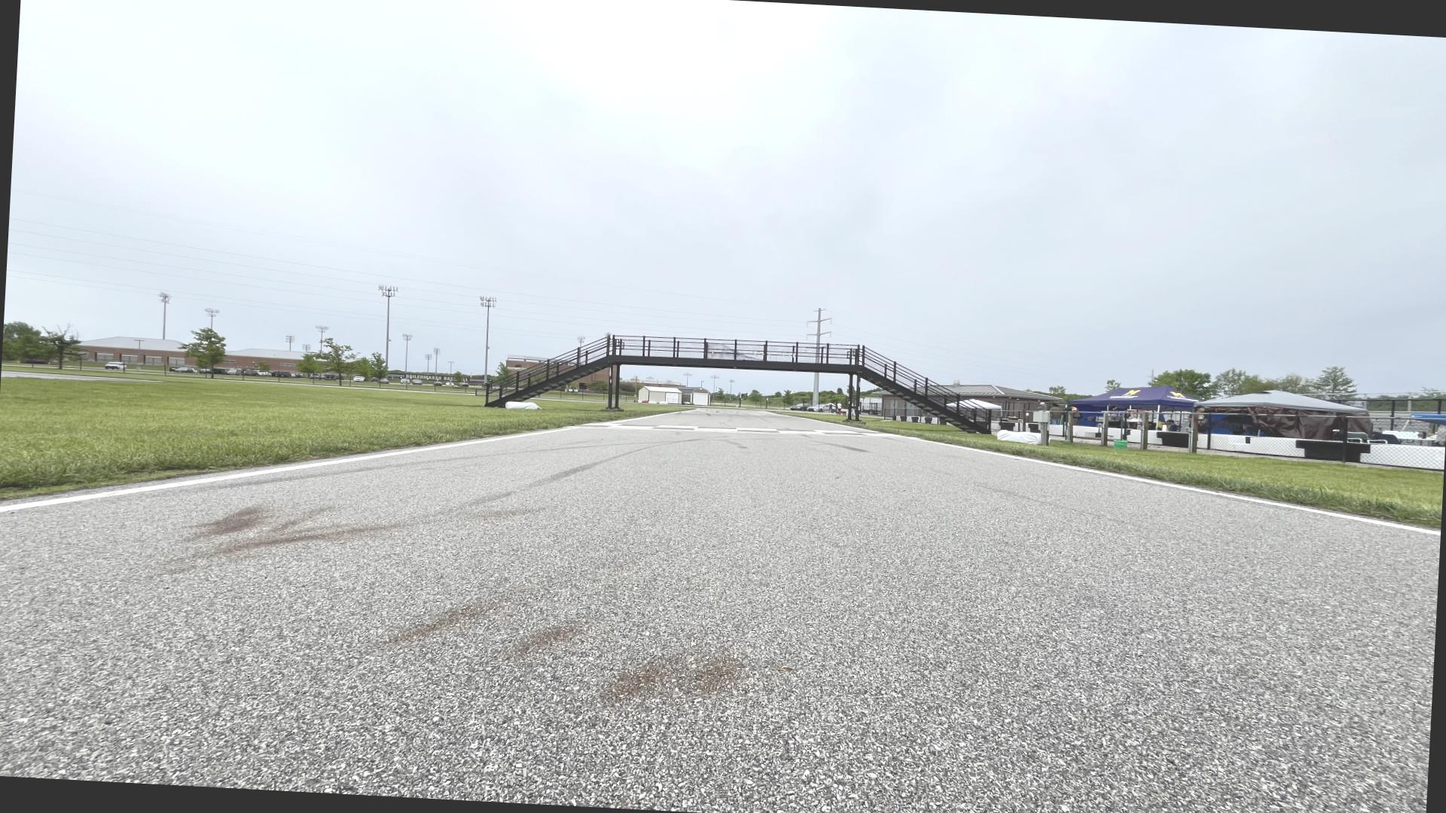white-line: (162, 457, 358, 490), (0, 481, 166, 513), (1162, 483, 1255, 500), (1244, 498, 1336, 515), (433, 434, 524, 450), (356, 446, 435, 461), (1331, 513, 1405, 528), (1030, 459, 1102, 473), (1100, 472, 1165, 484), (520, 426, 575, 437), (943, 444, 987, 452), (1401, 525, 1440, 534), (986, 452, 1030, 459), (763, 411, 801, 418), (801, 418, 839, 425), (838, 425, 876, 431), (605, 418, 641, 424), (669, 409, 700, 415), (640, 413, 670, 419), (910, 438, 944, 443), (675, 406, 698, 410), (875, 431, 888, 434)
